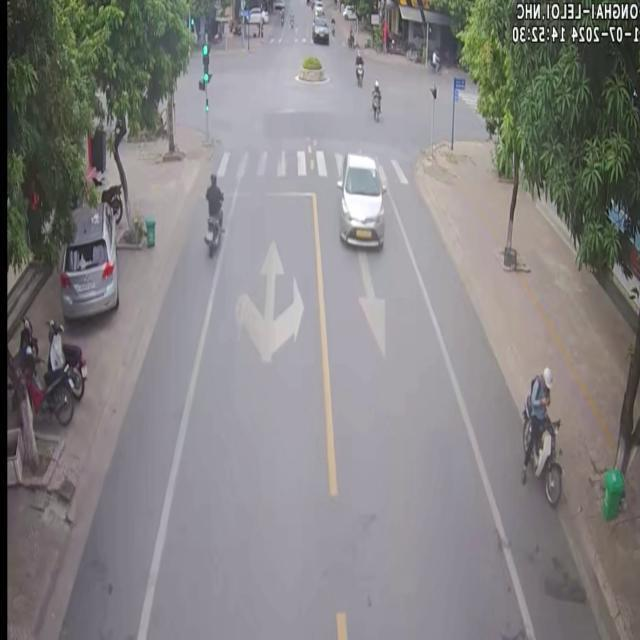car: (58, 194, 117, 318), (336, 151, 384, 247)
green_light: (201, 40, 209, 85)
motobike: (14, 316, 73, 422), (525, 365, 558, 501), (46, 318, 86, 398), (203, 174, 222, 256), (369, 78, 379, 119), (353, 49, 362, 84)
stop_line: (200, 189, 313, 196)
